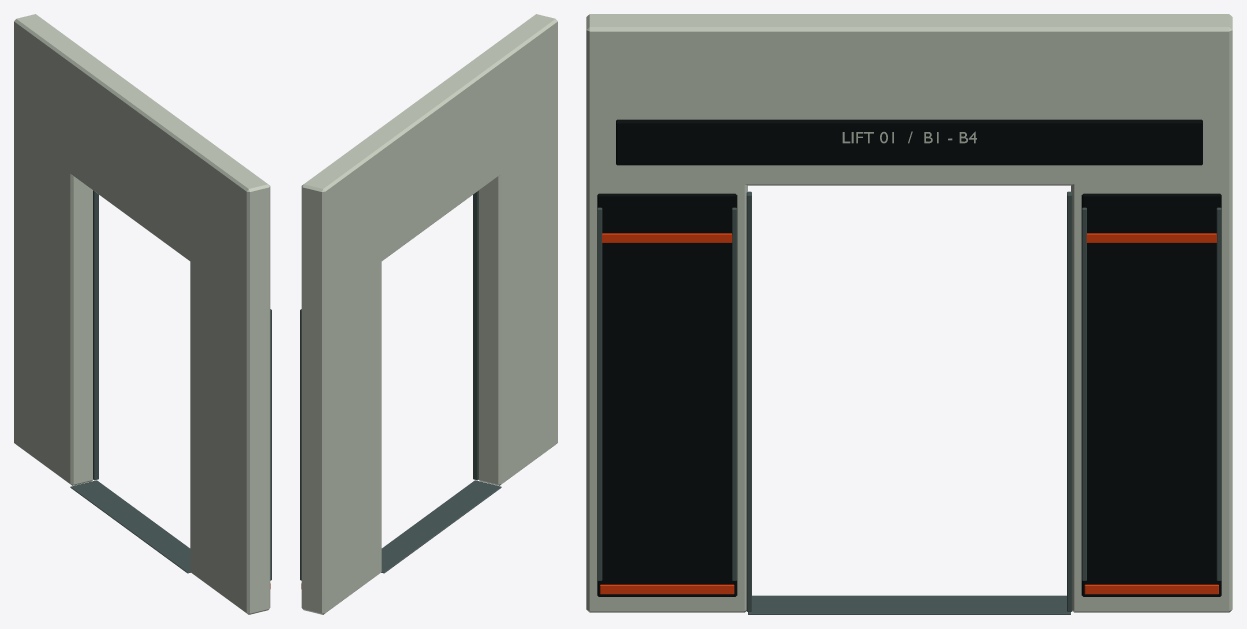
Rendered from SM_MP_Station_LiftDoorFrame.fbx.
3 renders of one model, left to right at view 1: azimuth 30°, elevation 25°; view 2: azimuth 150°, elevation 25°; view 3: azimuth 270°, elevation 25°, orthographic. The views are drawn at different scales.
Visible parts, largest first — view 1: SM_MP_Station_LiftDoorFrame; view 2: SM_MP_Station_LiftDoorFrame; view 3: SM_MP_Station_LiftDoorFrame.
Boxes of the visible parts, x1,y1,x2,y2 form: SM_MP_Station_LiftDoorFrame: (14, 14, 271, 614); SM_MP_Station_LiftDoorFrame: (300, 14, 557, 614); SM_MP_Station_LiftDoorFrame: (586, 14, 1232, 614).
Bounding box in the file's own units: 36.6 × 480 × 480.
1 material, 1 textured.
